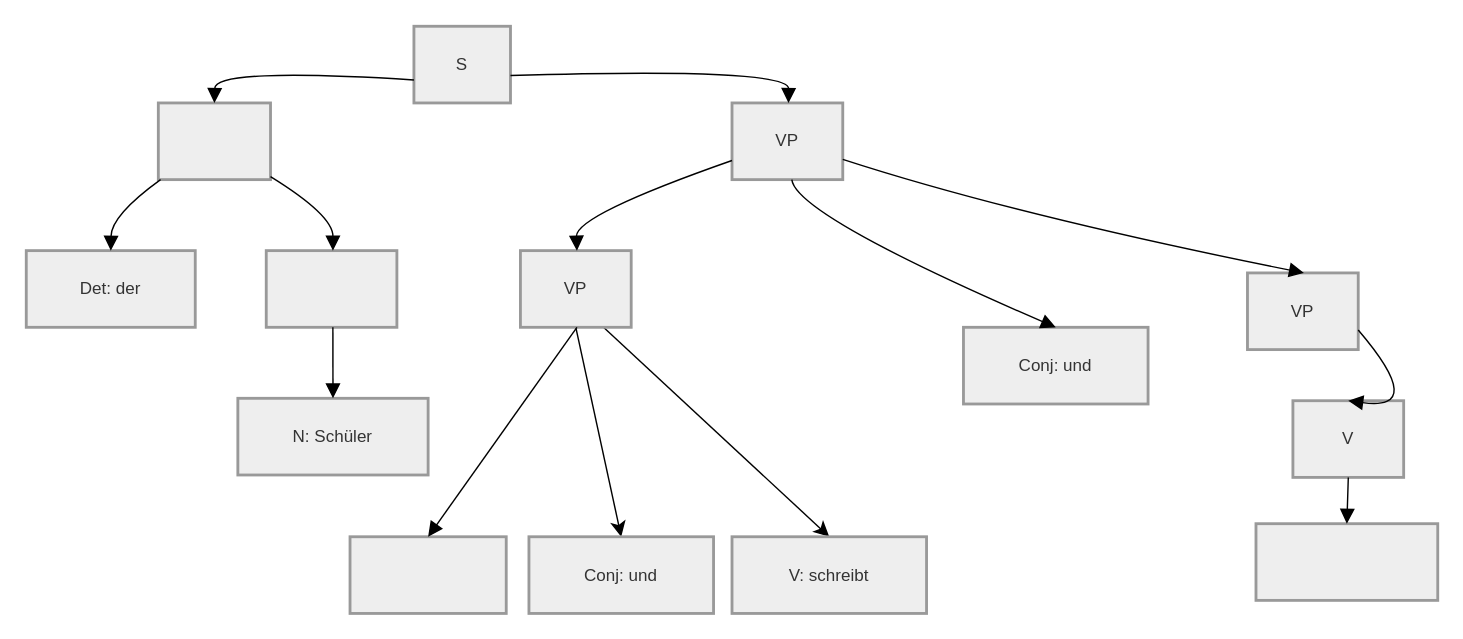
This 1463x639 diagram has some shape labels left out. The centre of each missing label's shape, as x and y in pixels:
"NOM" goes at (x=331, y=288).
"NP" goes at (x=213, y=140).
"V: erklärt" goes at (x=1346, y=561).
"V: liest" goes at (x=427, y=574).
